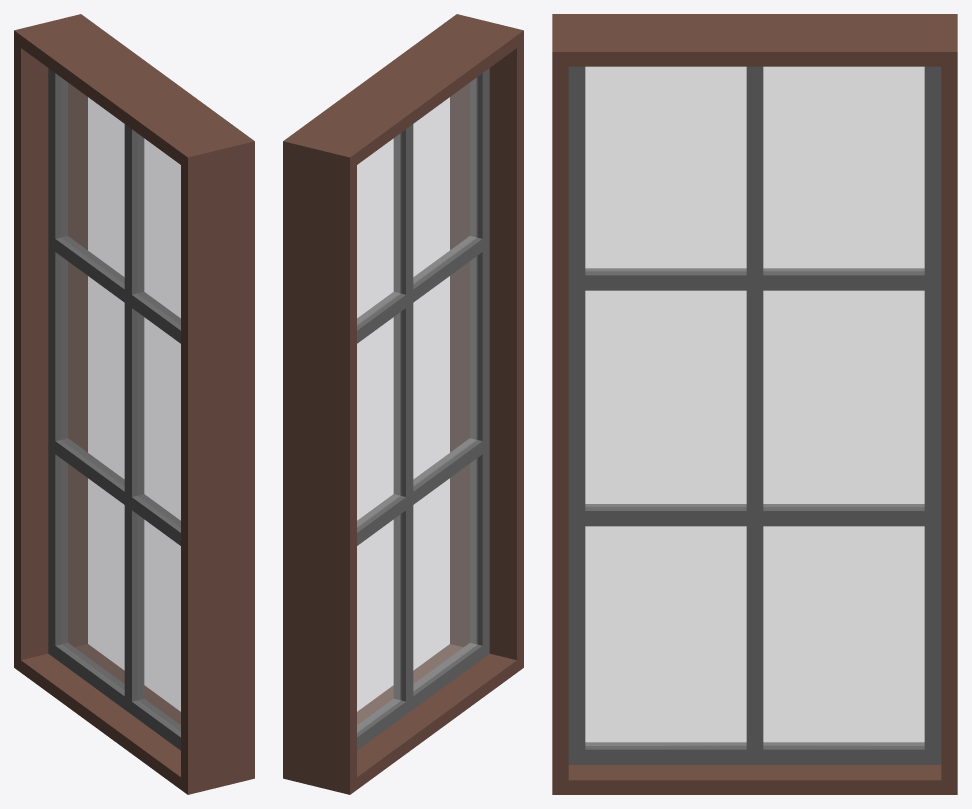
Rendered from Window07.fbx.
3 renders of one model, left to right at view 1: azimuth 30°, elevation 25°; view 2: azimuth 150°, elevation 25°; view 3: azimuth 270°, elevation 25°, orthographic. The views are drawn at different scales.
Parts seen in each view (by area): view 1: Wall07Window01; view 2: Wall07Window01; view 3: Wall07Window01.
Boxes of the visible parts, x1=… form: Wall07Window01: x1=14, y1=14, x2=254, y2=794; Wall07Window01: x1=283, y1=14, x2=523, y2=794; Wall07Window01: x1=552, y1=14, x2=957, y2=794.
Bounding box in the file's own units: 0.2672 × 1.2 × 2.43.
